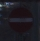No entry: (5, 5, 35, 36)
